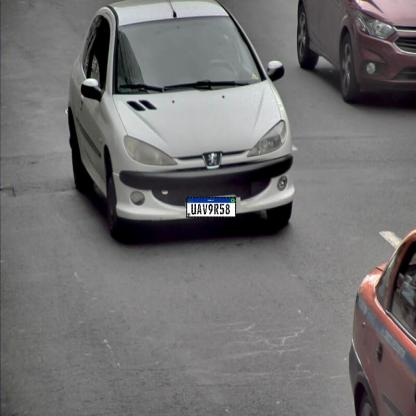PlacaM: (186, 197, 236, 218)
